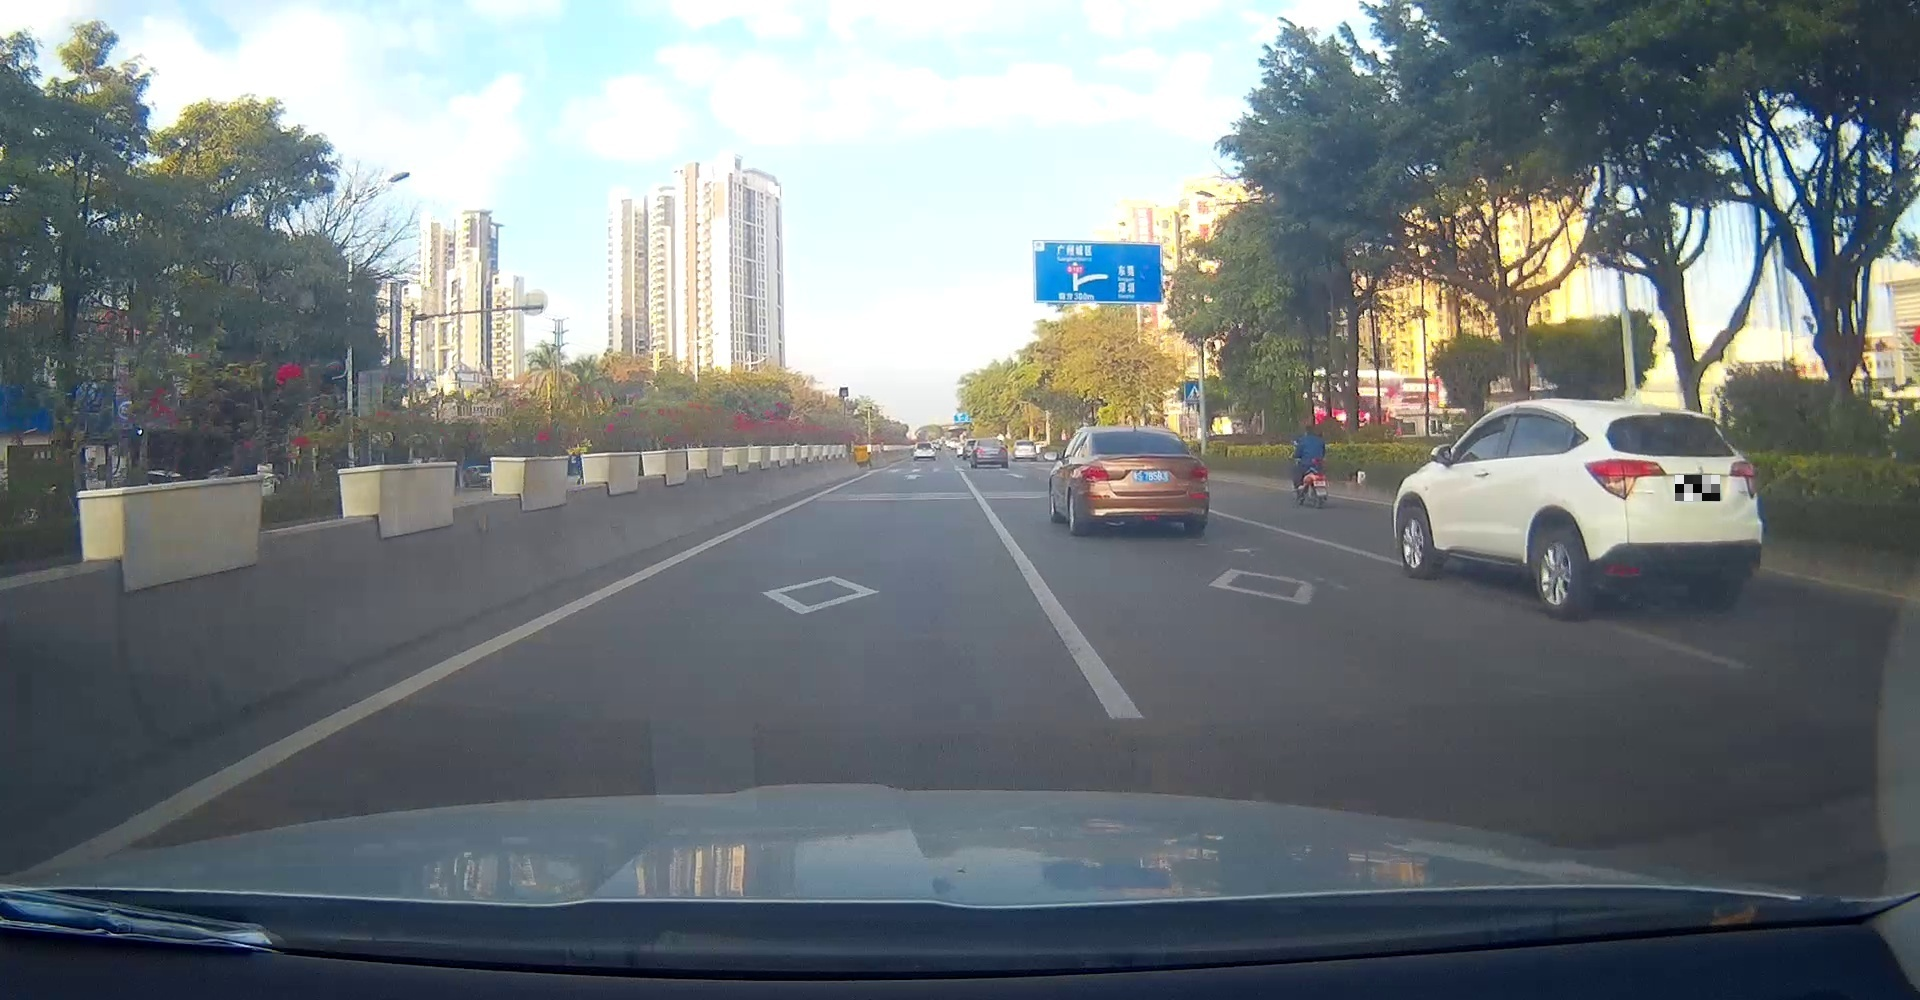L_light: (1583, 458, 1667, 500), (1079, 466, 1110, 484)
R_light: (1730, 461, 1757, 497), (1187, 466, 1209, 481)
T_light: (1669, 414, 1686, 420), (1133, 431, 1145, 437)
day-no: (1583, 406, 1763, 618), (1079, 426, 1210, 536)
plate_1: (1675, 475, 1719, 501)
